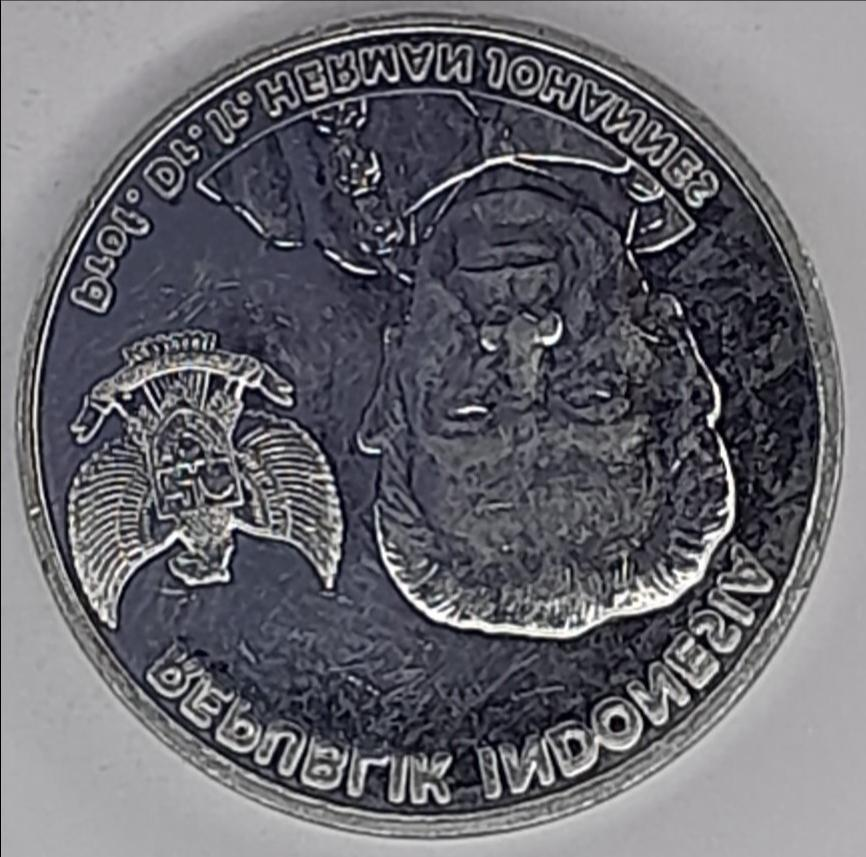coin_100_e2016: (11, 3, 850, 840)
